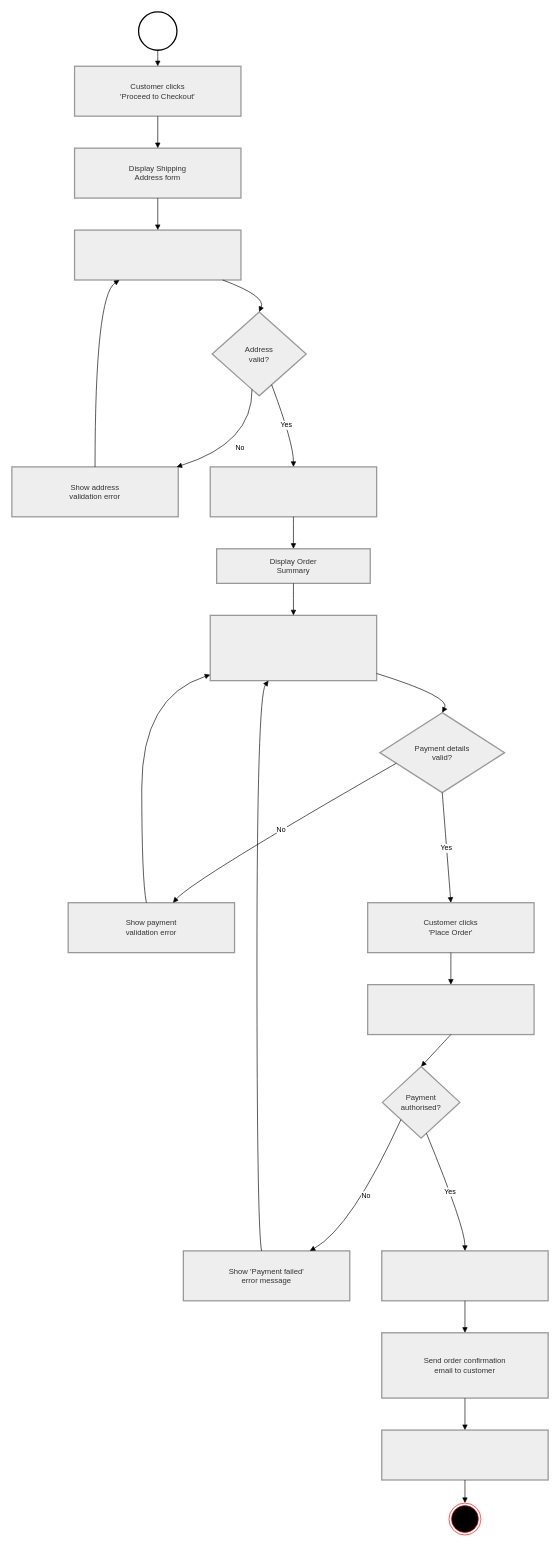
This 559x1546 diagram has some shape labels left out. Each missing label, with the box of its shape:
Clear cart & show success page: (381, 1429, 548, 1480)
Customer enters shipping address: (74, 229, 241, 280)
Customer selects payment method & enters details: (209, 614, 377, 681)
Customer selects shipping method: (209, 466, 377, 517)
Generate Order ID & confirm stock deduction: (381, 1250, 548, 1301)
Process payment through gateway: (367, 984, 534, 1035)
